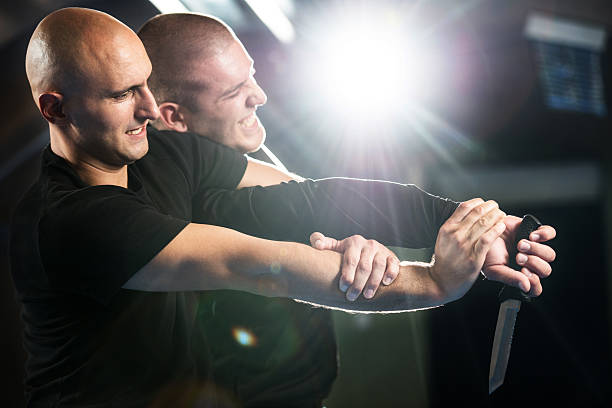knife: (485, 211, 543, 395)
